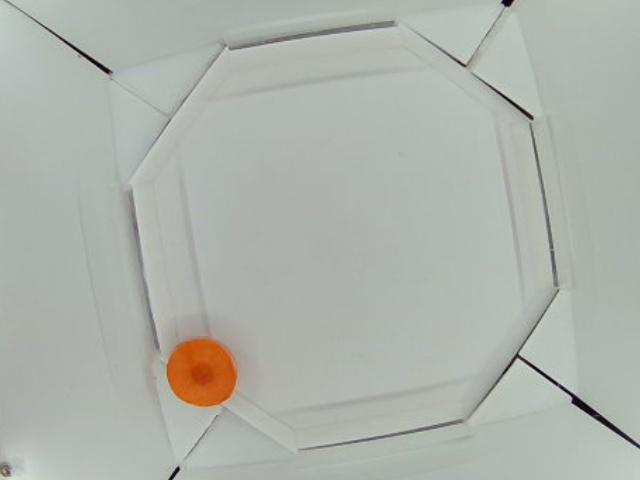Carrot: (167, 338, 238, 407)
